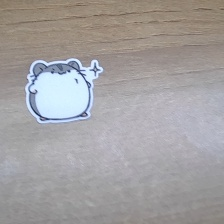mouse: (26, 58, 105, 124)
